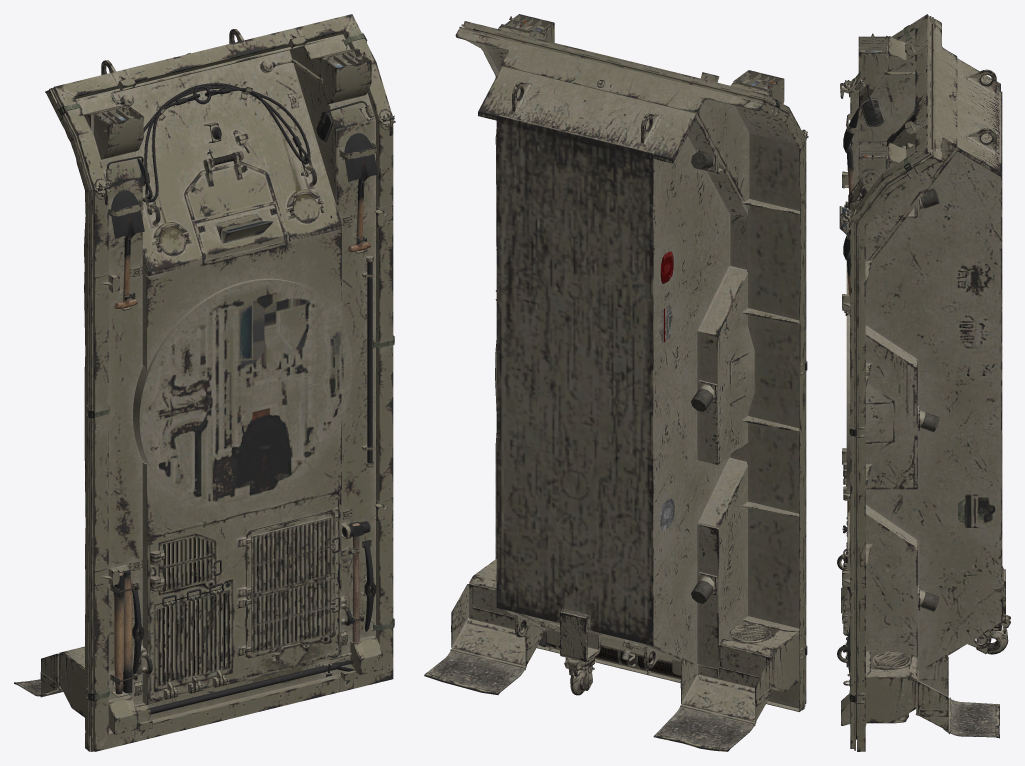
File: Hull.glb
3 views of the same model, side by side, from view 1: azimuth 30°, elevation 25°; view 2: azimuth 150°, elevation 25°; view 3: azimuth 270°, elevation 25° (orthographic). The views are drawn at different scales.
Visible parts, largest first — view 1: set_0_group_0; view 2: set_0_group_0; view 3: set_0_group_0.
Part boxes in pixels (x1=…): set_0_group_0: x1=14, y1=14, x2=395, y2=751; set_0_group_0: x1=424, y1=14, x2=808, y2=751; set_0_group_0: x1=837, y1=14, x2=1010, y2=751.
Bounding box in the file's own units: 2.15 × 4.28 × 1.13.
1 material, 1 textured.
